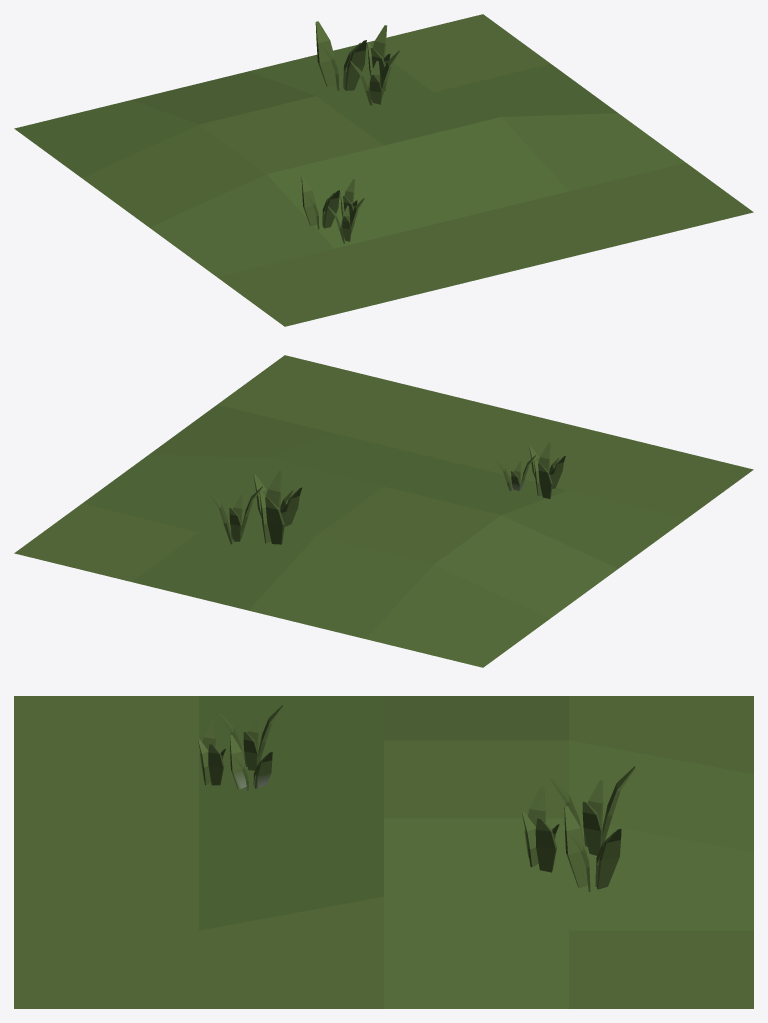
Rendered from tile_3.fbx.
The picture shows the model from 3 angles, top to bottom: view 1: azimuth 30°, elevation 25°; view 2: azimuth 150°, elevation 25°; view 3: azimuth 270°, elevation 25°; orthographic projection. The views are drawn at different scales.
Visible parts, largest first — view 1: Cube.463; view 2: Cube.463; view 3: Cube.463.
Boxes of the visible parts, <box> form: Cube.463: <box>14,14,753,326</box>; Cube.463: <box>14,355,753,667</box>; Cube.463: <box>14,696,753,1008</box>.
Bounding box in the file's own units: 400 × 62.98 × 400.
